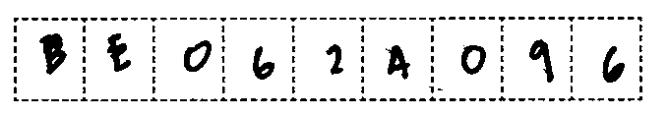0: (177, 35, 215, 79), (454, 39, 490, 81)
2: (320, 38, 348, 79)
6: (244, 38, 281, 82), (594, 40, 630, 85)
9: (523, 34, 561, 88)
A: (381, 39, 414, 84)
B: (34, 26, 74, 80)
E: (100, 26, 138, 77)
